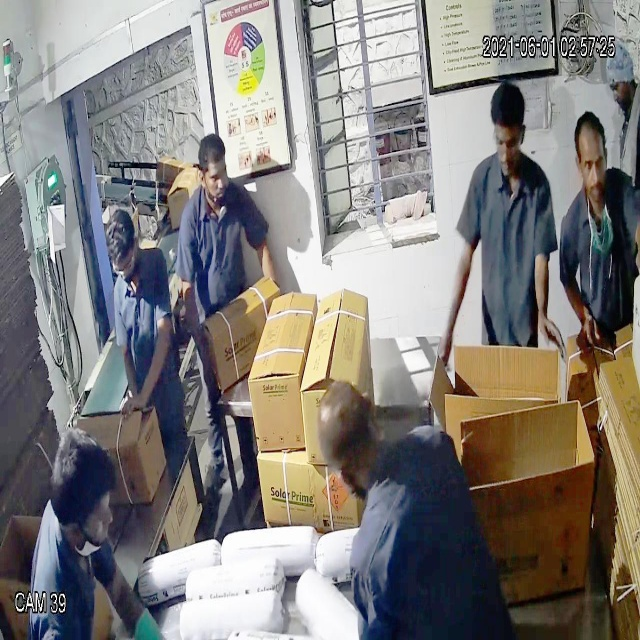Sin_gafas: (574, 146, 612, 180), (198, 159, 234, 191)
